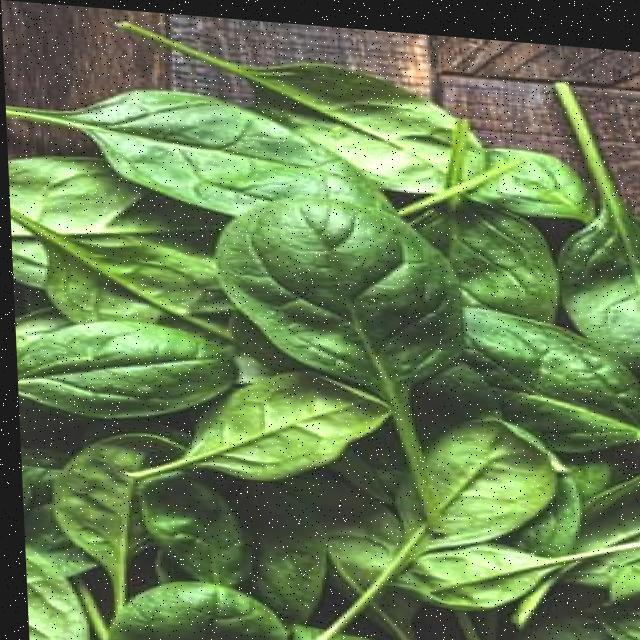Spinach: (0, 14, 640, 640)
